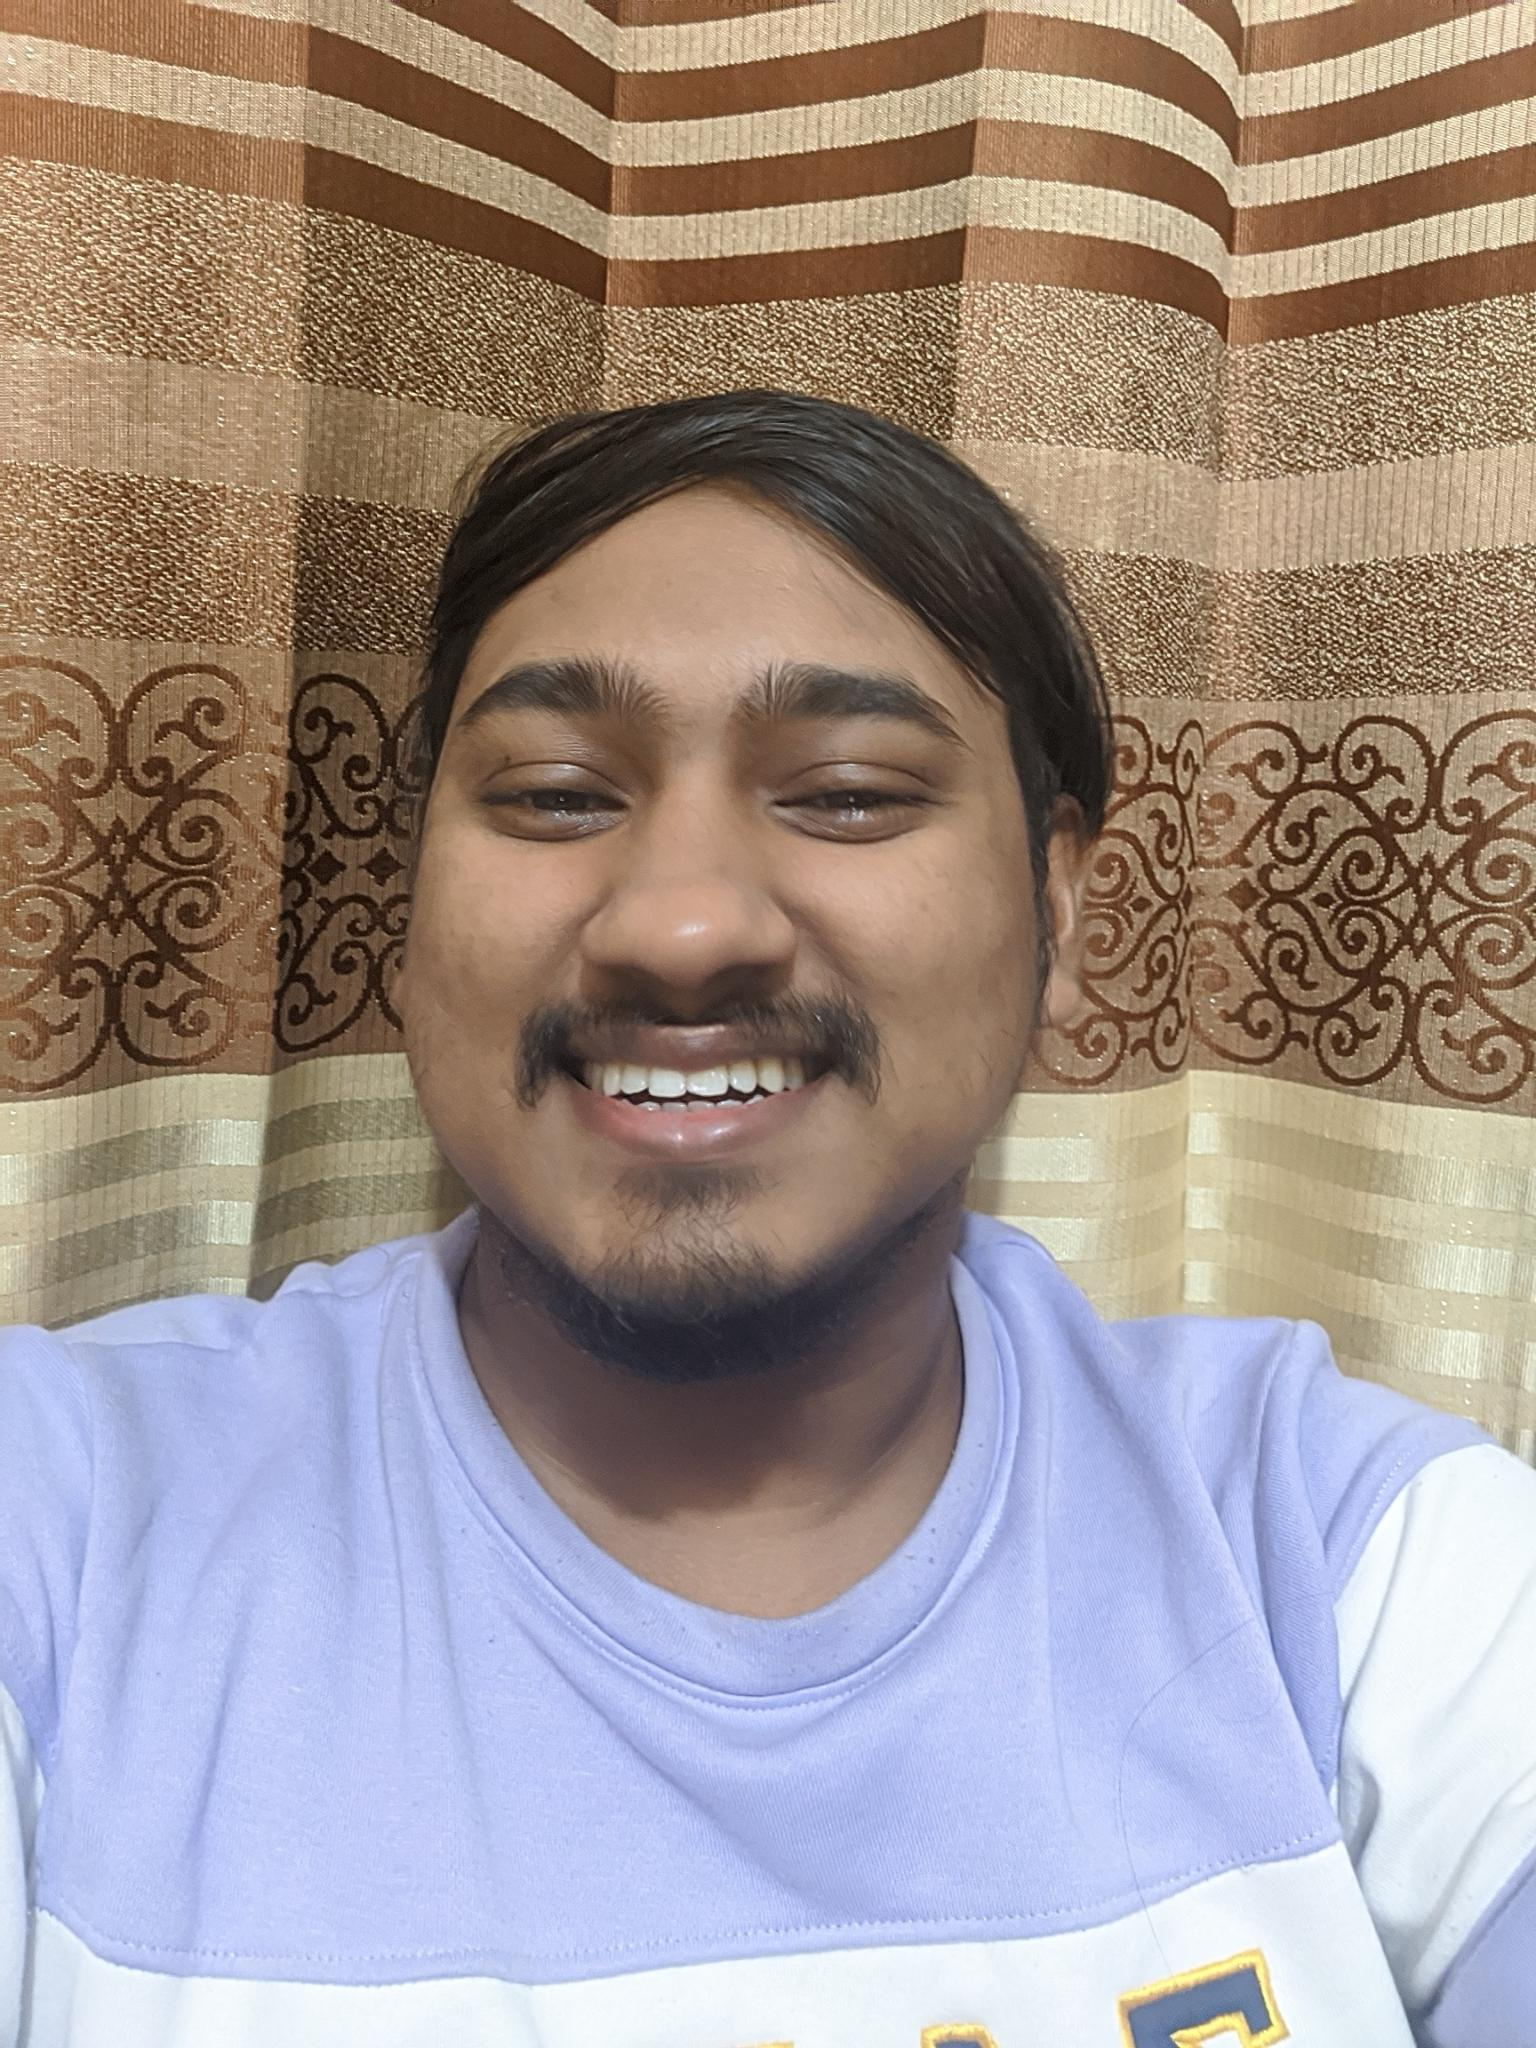Happy: (407, 592, 1020, 1361)
